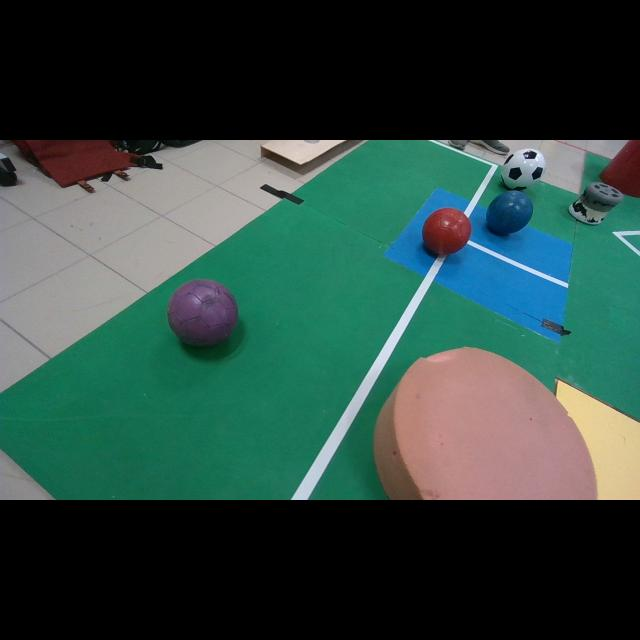B: (486, 190, 532, 235)
P: (168, 281, 238, 346)
R: (422, 208, 471, 256)
